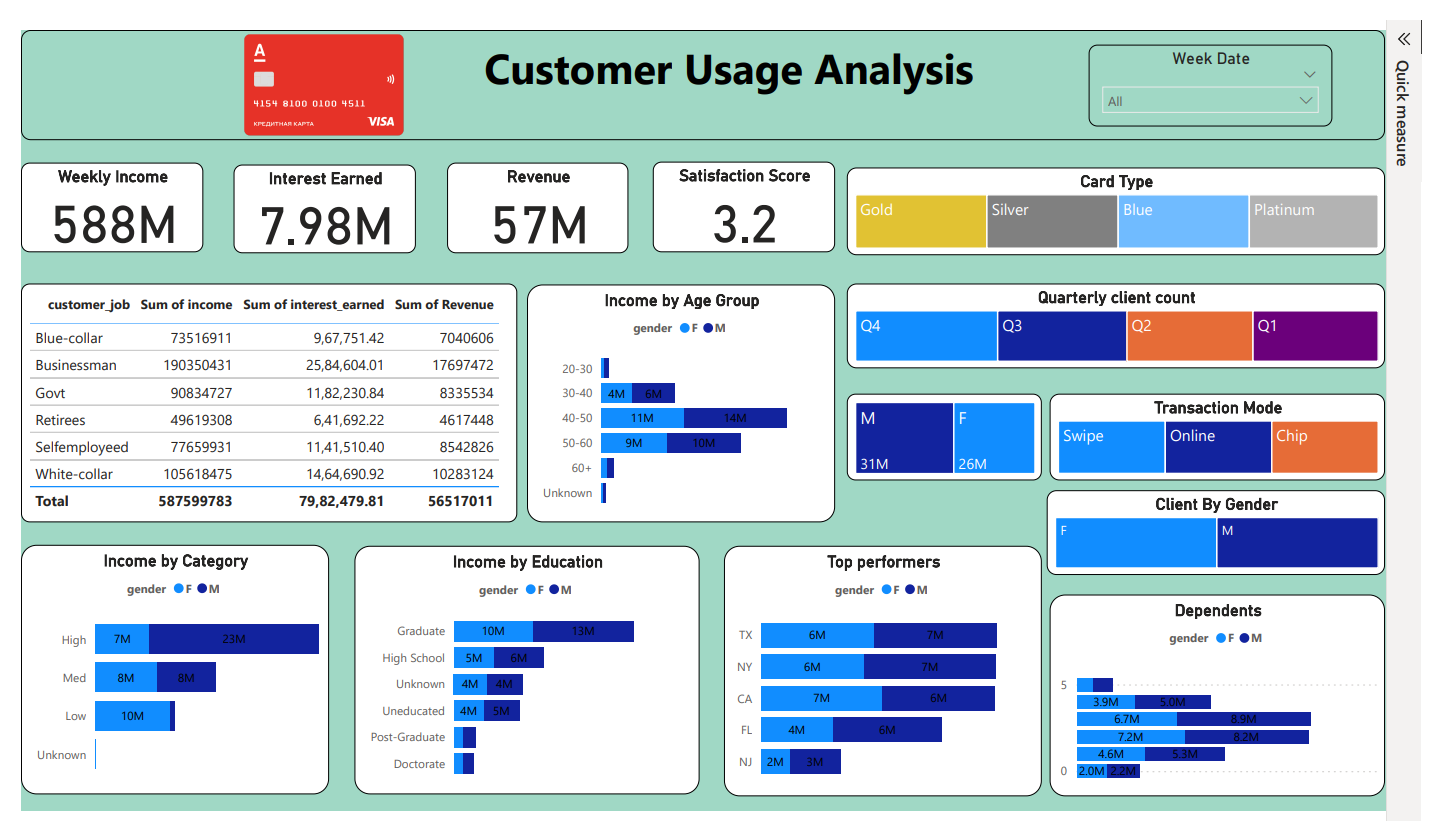

The dashboard page shown, as its layout file describes it:
{"tool":"powerbi","page":{"name":"Customer Analysis","canvas":[1400,800],"ordinal":2},"visuals":[{"type":"textbox","box":[0,0,1399.5,112.6],"z":0},{"type":"barChart","title":"Income by Category","fields":{"Y":["public card_details.Revenue"],"Category":["public customer_details.IncomeCate"],"Series":["public customer_details.gender"]},"box":[0,528.2,316.4,256],"z":1000},{"type":"card","title":"Revenue","fields":{"Values":["public card_details.Revenue"]},"box":[436.5,136.2,186.5,92.6],"z":2000},{"type":"card","title":"Satisfaction Score","fields":{"Values":["public customer_details.cust_satisfaction_score"]},"box":[648.2,134.9,186.5,92.6],"z":3000},{"type":"tableEx","fields":{"Values":["public customer_details.customer_job","public customer_details.income","public card_details.interest_earned","public card_details.Revenue"]},"box":[0,260.1,509.4,245.3],"z":4000},{"type":"card","title":"Interest Earned","fields":{"Values":["public card_details.interest_earned"]},"box":[218.3,137.6,186.5,91.3],"z":5000},{"type":"slicer","title":"Week Date","fields":{"Values":["public card_details.week_start_date"]},"box":[1095.2,14.7,249.3,84.5],"z":6000},{"type":"treemap","title":"Quarterly client count","fields":{"Group":["public card_details.qtr"],"Values":["public card_details.client_num"]},"box":[847.2,260.1,552.3,87.1],"z":7000},{"type":"treemap","title":"Client By Gender","fields":{"Group":["public customer_details.gender"],"Values":["public customer_details.client_num"]},"box":[1052.3,471.9,347.2,87.1],"z":8000},{"type":"treemap","title":"Card Type","fields":{"Values":["public card_details.client_num"],"Group":["public card_details.card_category"]},"box":[847.2,140.8,552.3,89.8],"z":9000},{"type":"card","title":"Weekly Income","fields":{"Values":["public customer_details.income"]},"box":[0,136.2,186.5,91.3],"z":10000},{"type":"treemap","fields":{"Group":["public customer_details.gender"],"Values":["public card_details.Revenue"]},"box":[847.2,372.7,199.7,89.8],"z":11000},{"type":"barChart","title":"Income by Age Group","fields":{"Y":["public card_details.Revenue"],"Category":["public customer_details.AgeGroup"],"Series":["public customer_details.gender"]},"box":[518.8,261.4,316.4,244],"z":12000},{"type":"barChart","title":"Income by Education ","fields":{"Y":["public card_details.Revenue"],"Category":["public customer_details.education_level"],"Series":["public customer_details.gender"]},"box":[341.8,529.5,353.9,254.7],"z":13000},{"type":"barChart","title":"Top performers","fields":{"Y":["public card_details.Revenue"],"Category":["public customer_details.state_cd"],"Series":["public customer_details.gender"]},"box":[721.2,529.5,325.7,256],"z":14000},{"type":"barChart","title":"Dependents","fields":{"Y":["public card_details.Revenue"],"Category":["public customer_details.dependent_count"],"Series":["public customer_details.gender"]},"box":[1055,579.1,344.5,206.4],"z":15000},{"type":"treemap","title":"Transaction Mode","fields":{"Values":["public card_details.client_num"],"Group":["public card_details.use_chip"]},"box":[1055,372.7,344.5,89.8],"z":16000},{"type":"image","box":[56.3,0,508,112.6],"z":17000}]}

Visuals, with their boxes in screenshot pixels (x1, y1, x2, y2):
textbox: 15, 26, 1382, 136
"Income by Category" barChart: 15, 542, 324, 792
"Revenue" card: 441, 159, 624, 250
"Satisfaction Score" card: 648, 158, 831, 248
tableEx - public customer_details.customer_job x public customer_details.income: 15, 280, 513, 520
"Interest Earned" card: 228, 161, 410, 250
"Week Date" slicer: 1085, 41, 1329, 123
"Quarterly client count" treemap: 843, 280, 1382, 365
"Client By Gender" treemap: 1043, 487, 1382, 572
"Card Type" treemap: 843, 164, 1382, 252
"Weekly Income" card: 15, 159, 197, 248
treemap - public customer_details.gender x public card_details.Revenue: 843, 390, 1038, 478
"Income by Age Group" barChart: 522, 282, 831, 520
"Income by Education " barChart: 349, 544, 695, 792
"Top performers" barChart: 720, 544, 1038, 794
"Dependents" barChart: 1046, 592, 1382, 794
"Transaction Mode" treemap: 1046, 390, 1382, 478
image: 70, 26, 566, 136
